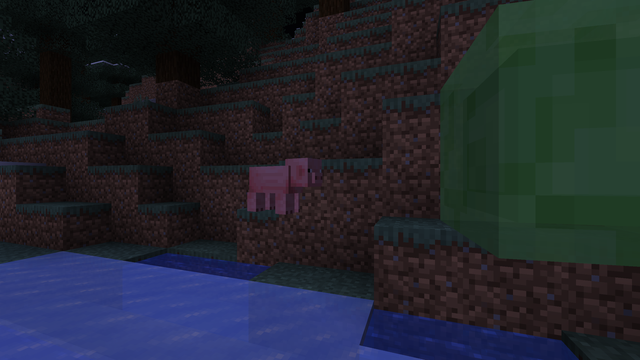cochons: (245, 164, 298, 215)
slimes: (444, 5, 626, 259)
